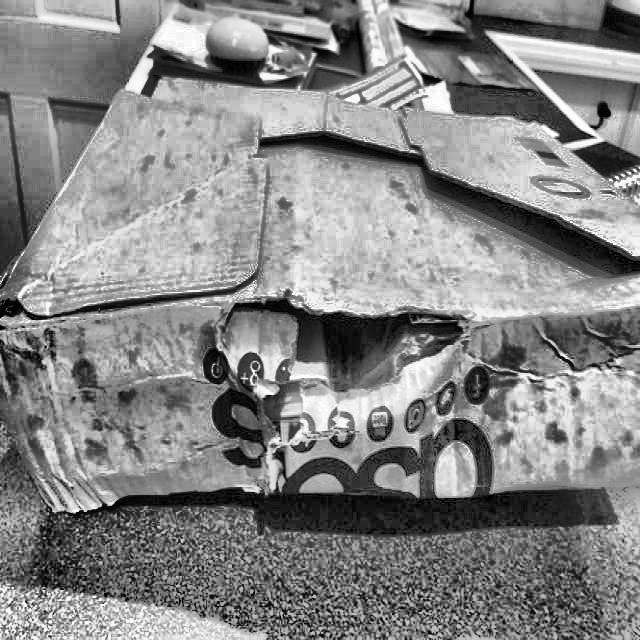box: (0, 65, 639, 524)
hole: (204, 264, 478, 405)
